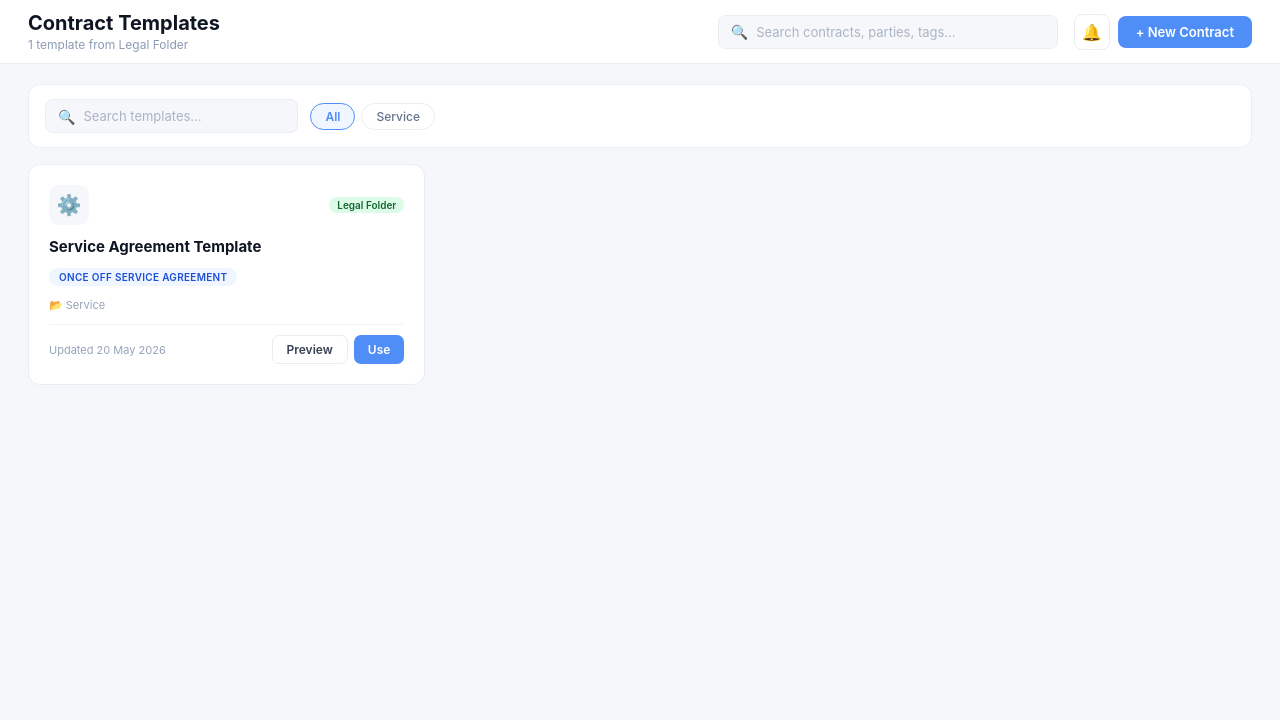
Draft Created modal — browser_fallback shown on open failure › does not show browser-only fallback text when the Electron bridge exists
Expected: the heading "Service Agreement Template" is shown, top-left (49, 237), bottom-right (261, 256)
Click the button "Use".
click(379, 350)  # box top-left (354, 335), bottom-right (404, 364)
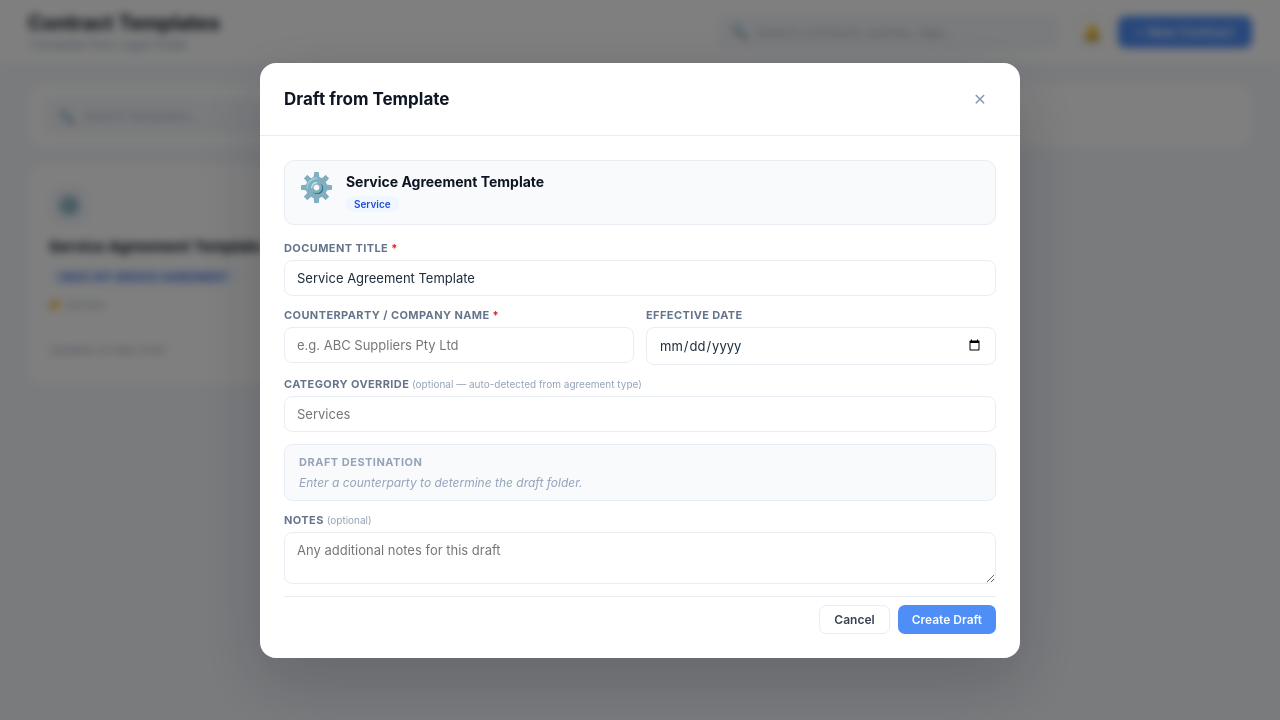
Expected: the heading "Draft from Template" is shown, top-left (284, 88), bottom-right (450, 108)
Type "Acme Ltd" into the field with placeholder "e.g. ABC Suppliers Pty Ltd".
click(459, 344); type("Acme Ltd")  # box top-left (284, 326), bottom-right (634, 362)
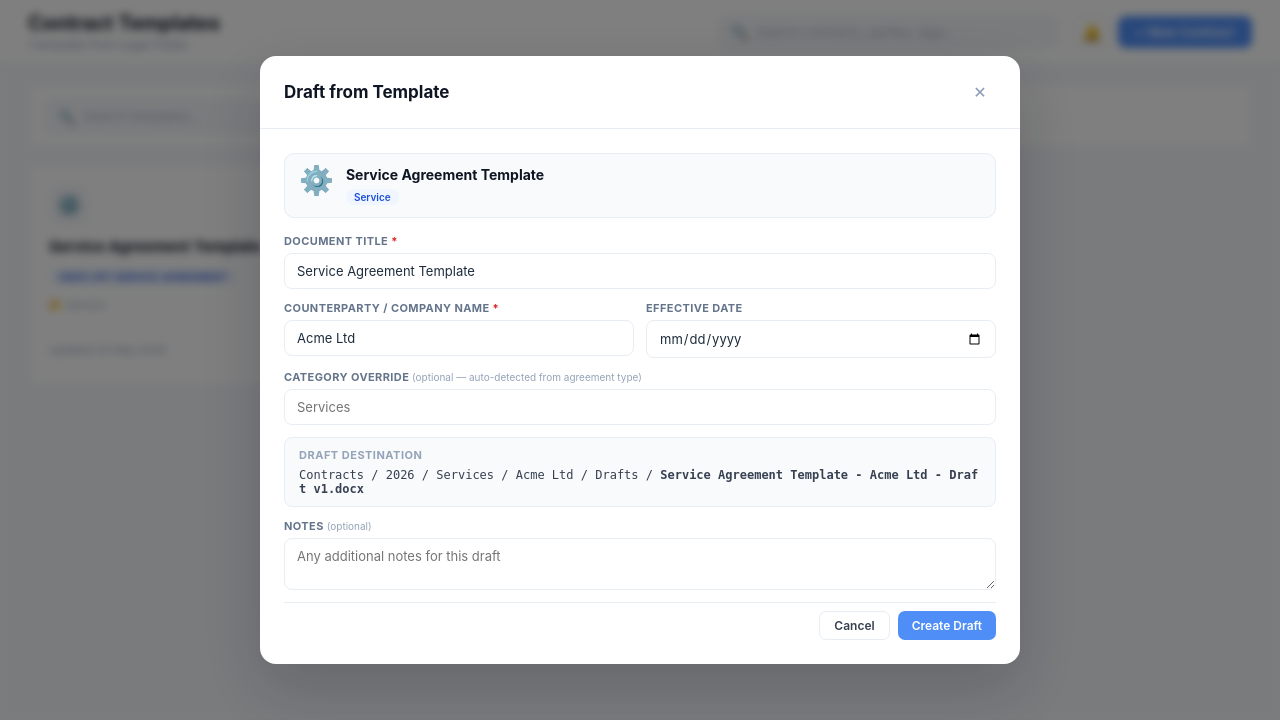
Click the button "Create Draft".
click(947, 626)  # box top-left (898, 611), bottom-right (996, 640)
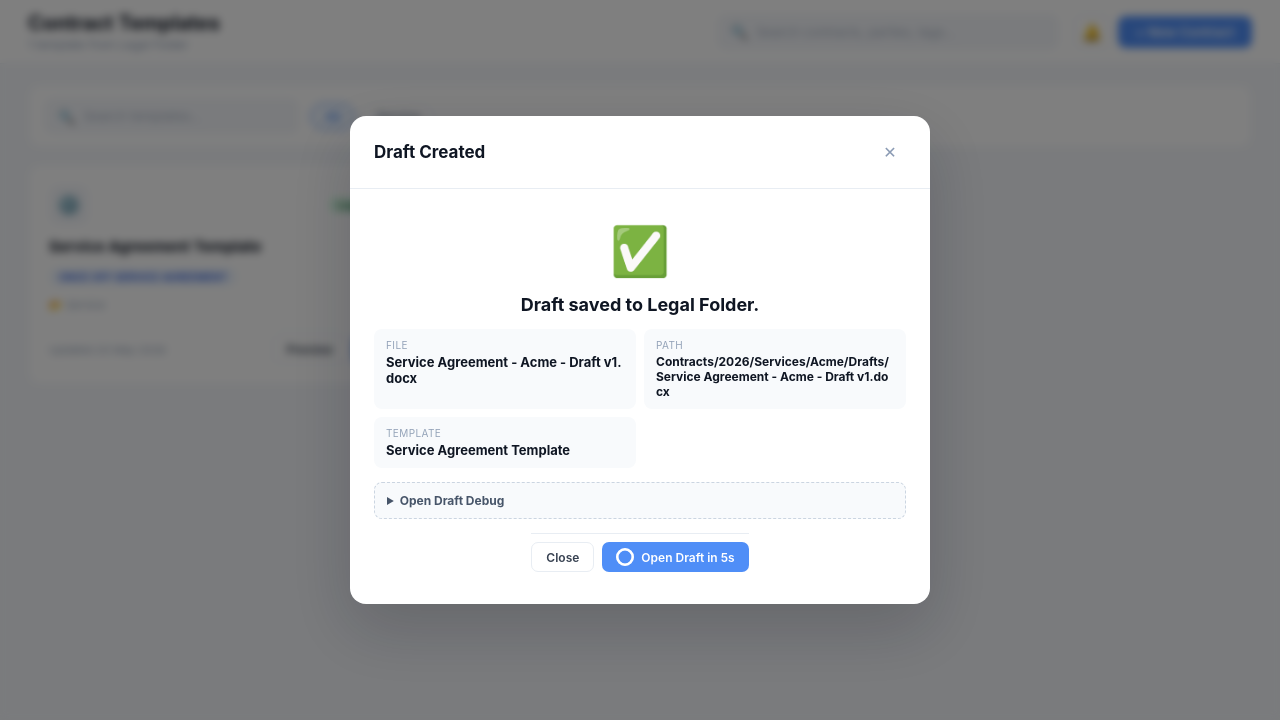
Expected: the heading "Draft Created" is shown, top-left (374, 142), bottom-right (485, 162)
Click the button with test id "open-draft-btn".
click(675, 557)  # box top-left (602, 542), bottom-right (749, 572)
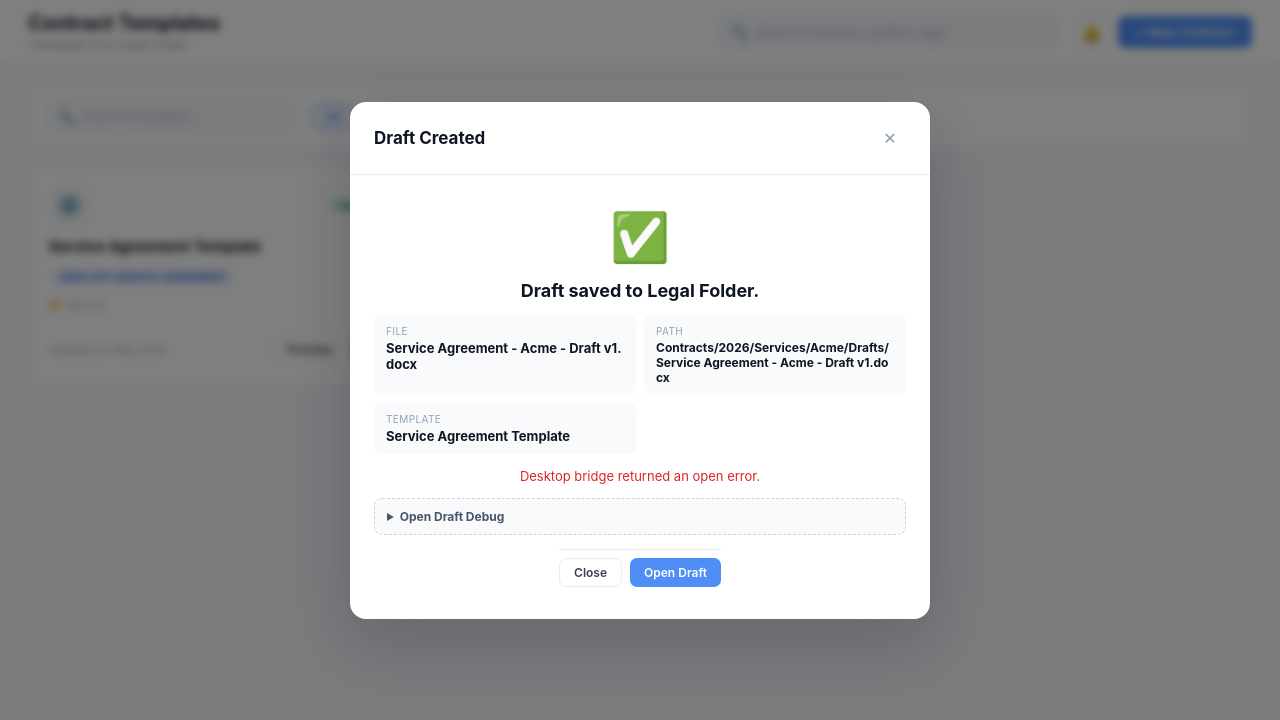
Expected: the text "Desktop bridge returned an open error." is shown, top-left (520, 468), bottom-right (760, 484)
